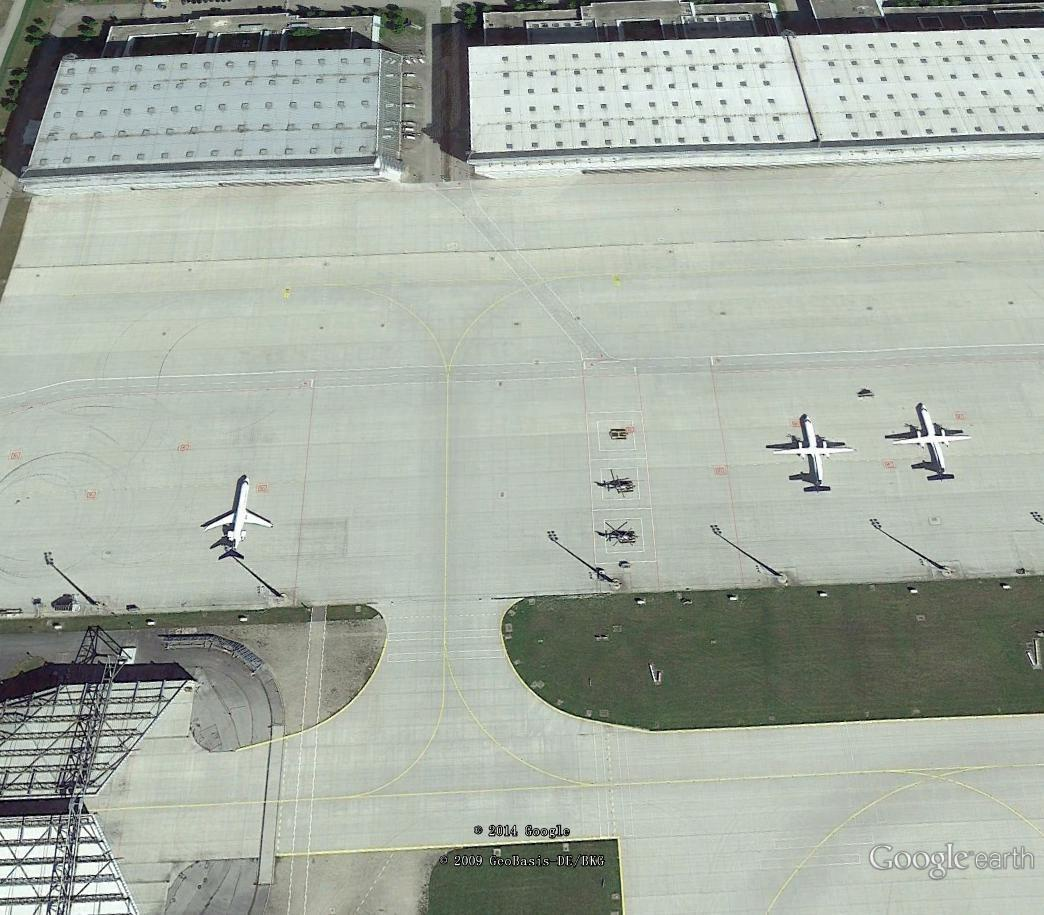aircraft: (882, 400, 978, 490), (765, 411, 864, 493), (198, 471, 280, 562)
